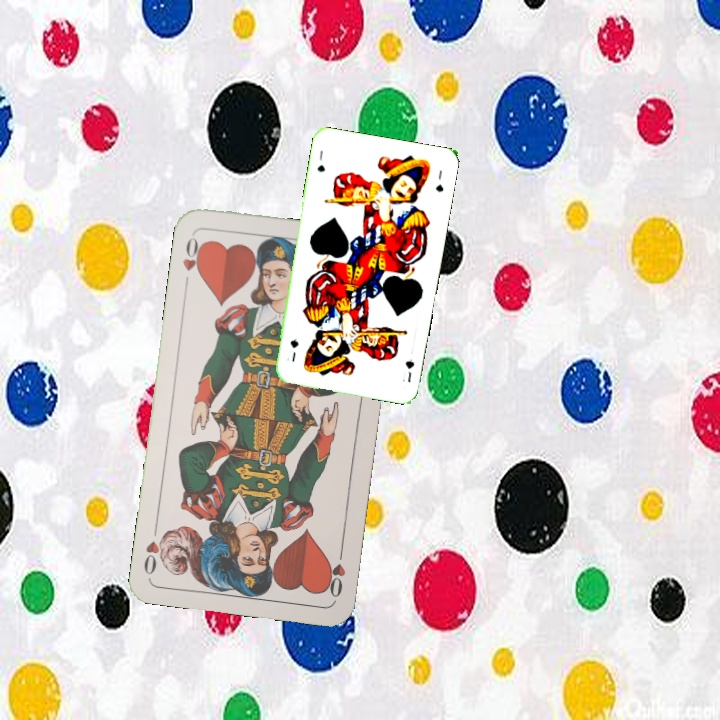GU: (401, 355, 417, 385), (313, 146, 328, 174)
HO: (178, 233, 206, 290), (322, 542, 348, 600)
